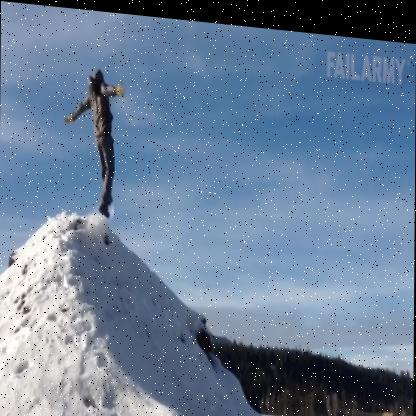streamer: (62, 63, 124, 217)
